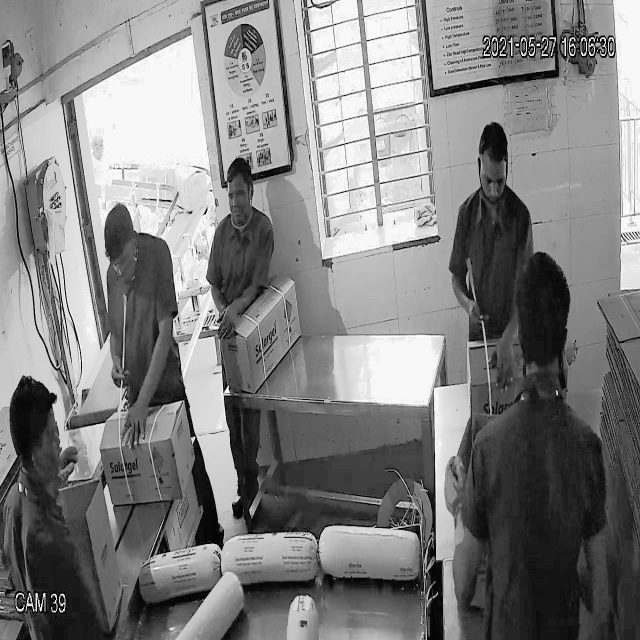Sin_gafas: (476, 166, 513, 196)
